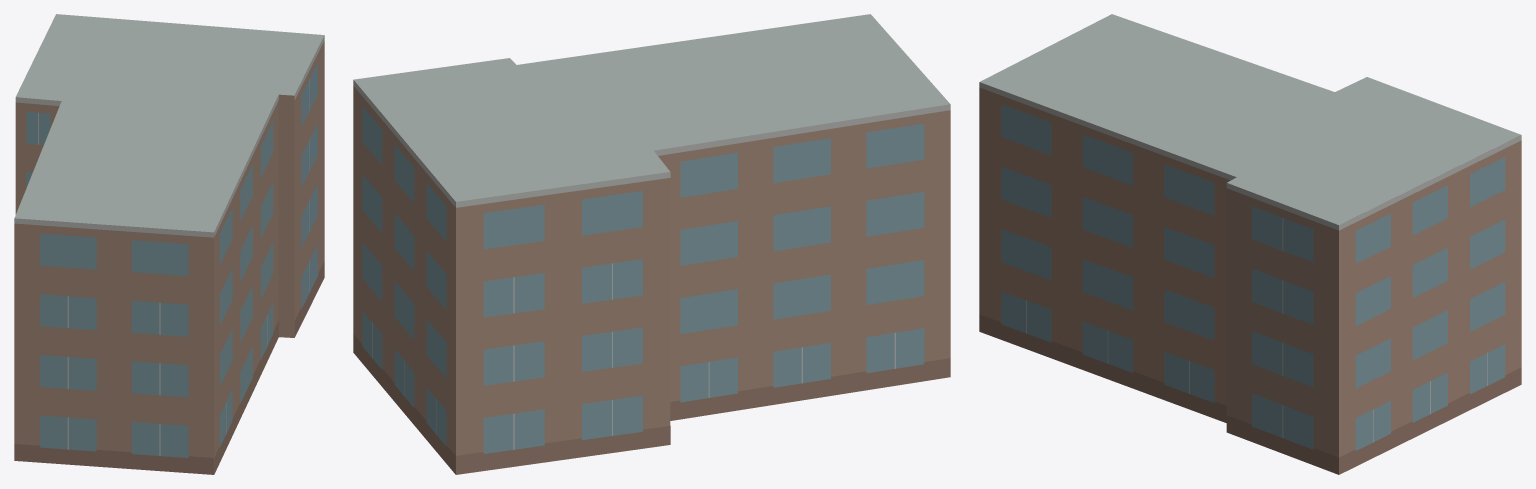
File: survey-upis-32847666.glb
3 renders of one model, left to right at view 1: azimuth 30°, elevation 25°; view 2: azimuth 150°, elevation 25°; view 3: azimuth 270°, elevation 25°, orthographic. The views are drawn at different scales.
Parts seen in each view (by area): view 1: survey-upis-32847666.tmp; view 2: survey-upis-32847666.tmp; view 3: survey-upis-32847666.tmp.
Boxes of the visible parts, box(x1,y1,x2,y2) form: survey-upis-32847666.tmp: box(14, 14, 324, 474); survey-upis-32847666.tmp: box(353, 14, 950, 474); survey-upis-32847666.tmp: box(979, 14, 1521, 474).
Size of the model in its own units: 20.51 by 11.3 by 22.25.
